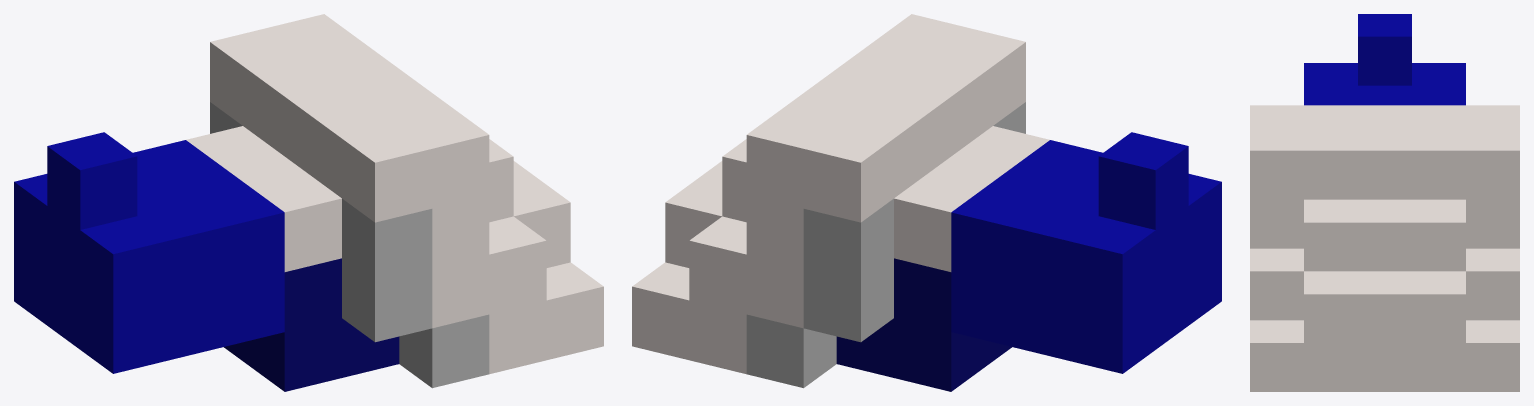
Rendered from AgriasArmUpperR.fbx.
3 views of the same model, side by side, from view 1: azimuth 30°, elevation 25°; view 2: azimuth 150°, elevation 25°; view 3: azimuth 270°, elevation 25° (orthographic). The views are drawn at different scales.
Parts seen in each view (by area): view 1: AgriasArms_part; view 2: AgriasArms_part; view 3: AgriasArms_part.
Part boxes in pixels (x1,y1,x2,y2): AgriasArms_part: [14, 14, 603, 391]; AgriasArms_part: [632, 14, 1221, 391]; AgriasArms_part: [1250, 14, 1519, 391].
Bounding box in the file's own units: 8 × 4 × 5.
Materials: 1 (1 with a texture image).
